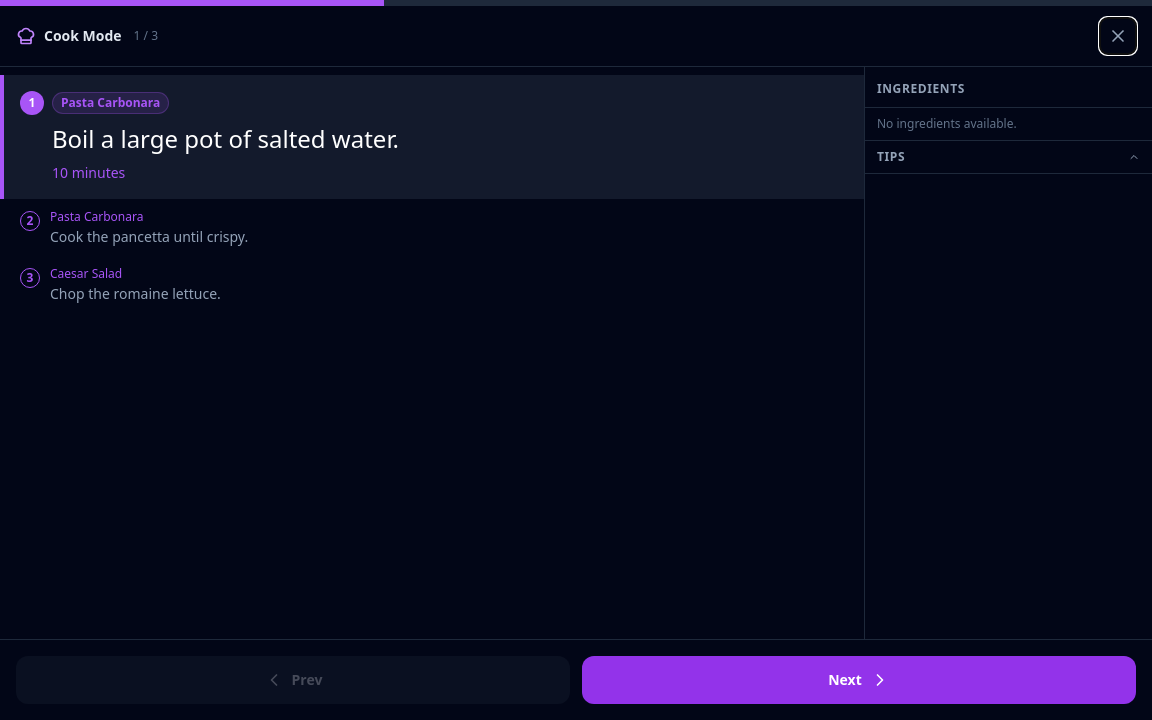
Test: CookModeDialog › clicking Done! shows completion screen
Note: Navigate to last step
Click the button with aria-label "Next step" at (859, 680), box left=582, top=656, right=1136, bottom=704
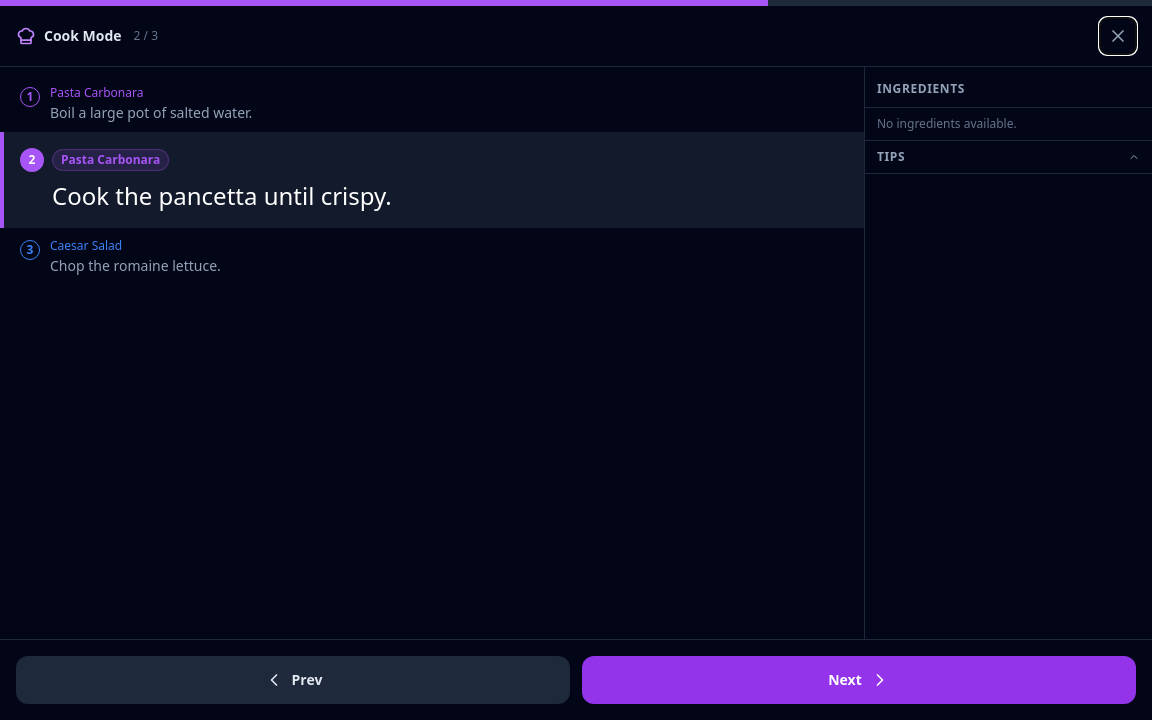
Click the button with aria-label "Next step" at (859, 680), box left=582, top=656, right=1136, bottom=704
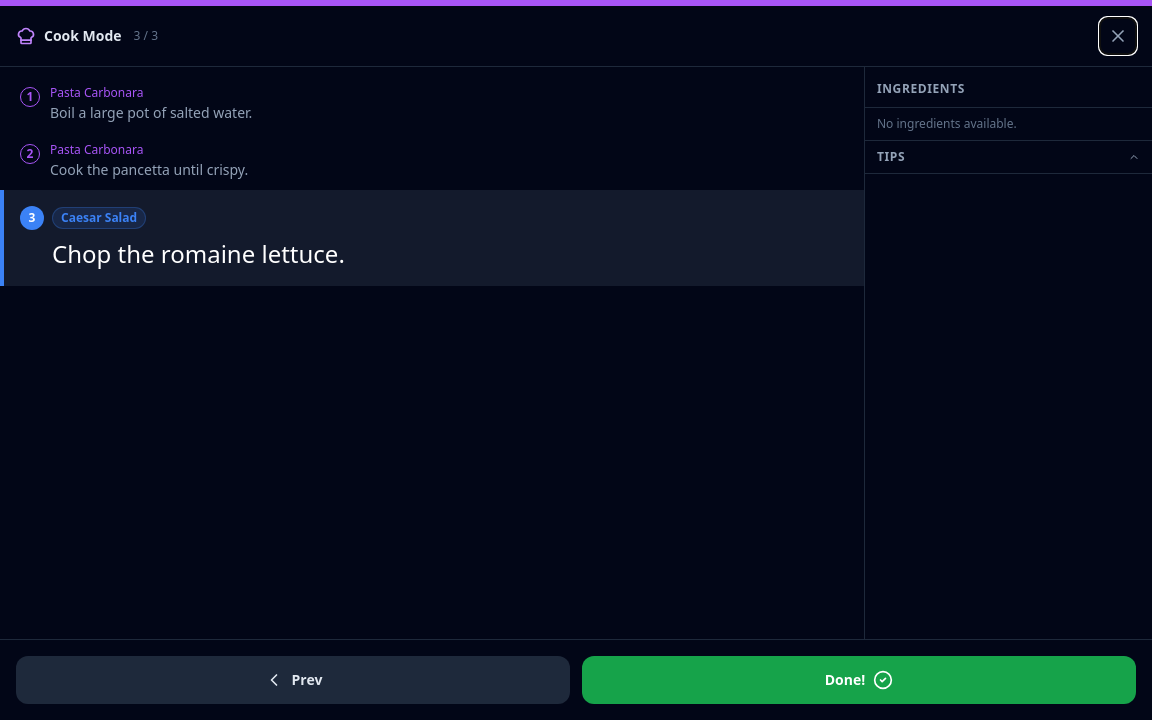
Note: Click Done!
Click the button with aria-label "Finish cooking" at (859, 680), box left=582, top=656, right=1136, bottom=704
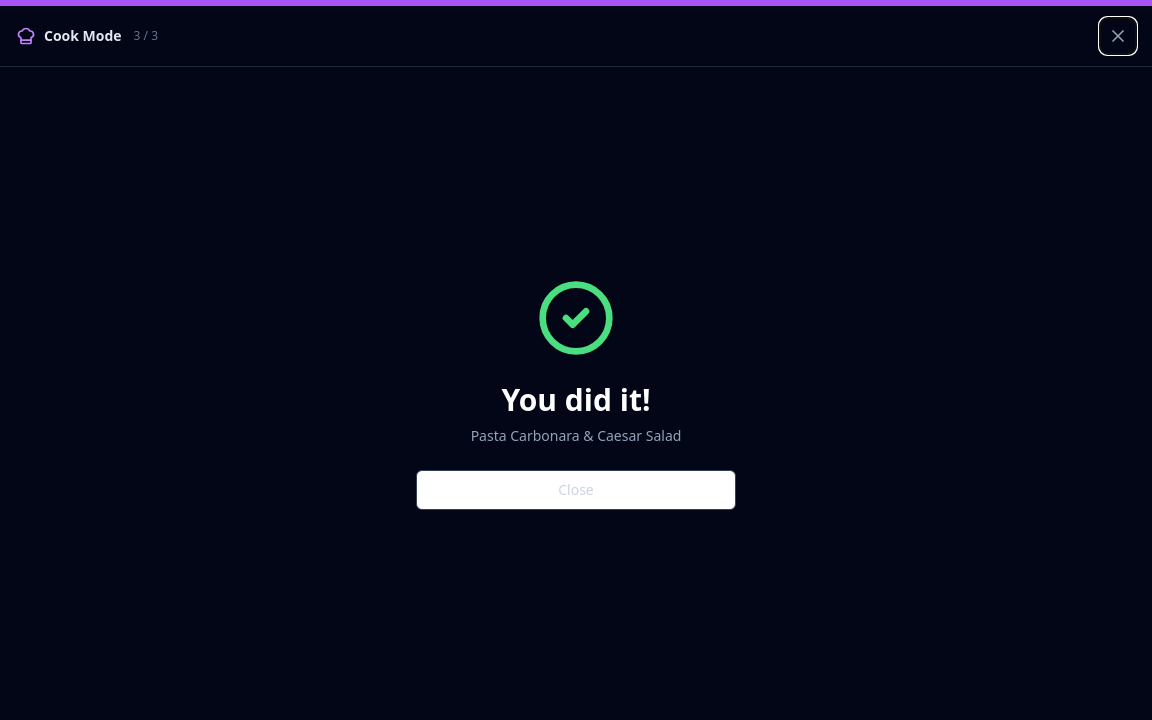
expect the heading "You did it!" is shown: met, box left=502, top=378, right=650, bottom=420
